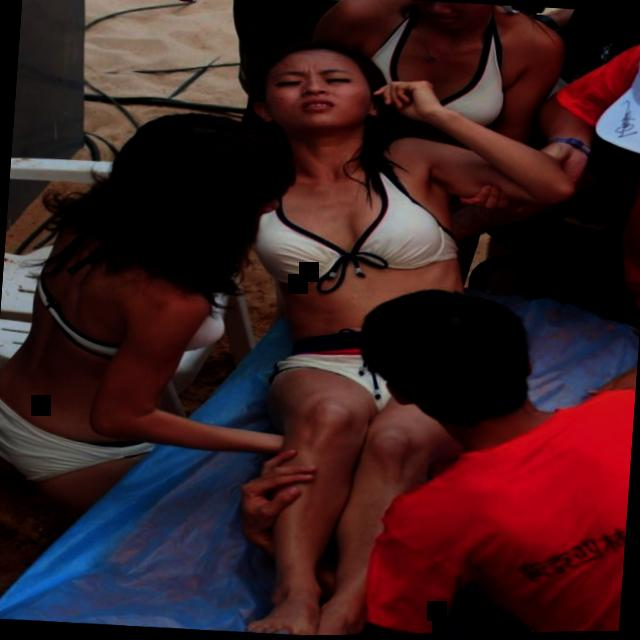Fall-Detected: (206, 31, 529, 638)
